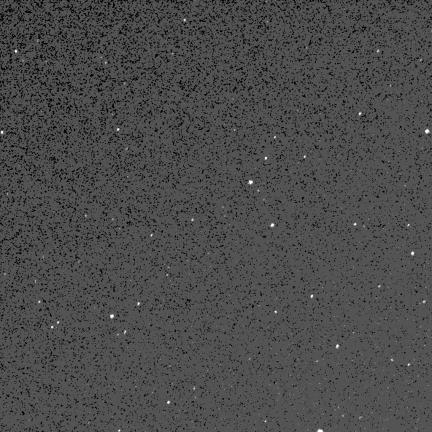blob: (425, 129, 429, 134), (411, 252, 415, 256), (336, 345, 340, 349), (168, 401, 171, 405), (1, 131, 4, 135), (117, 128, 120, 132), (111, 314, 114, 318), (138, 302, 141, 306), (249, 181, 253, 184), (15, 50, 18, 54), (311, 295, 314, 299), (359, 112, 362, 116), (354, 223, 357, 227), (271, 224, 274, 227), (275, 311, 278, 314), (265, 157, 268, 160), (192, 219, 195, 222), (304, 156, 307, 159), (52, 326, 54, 329)
